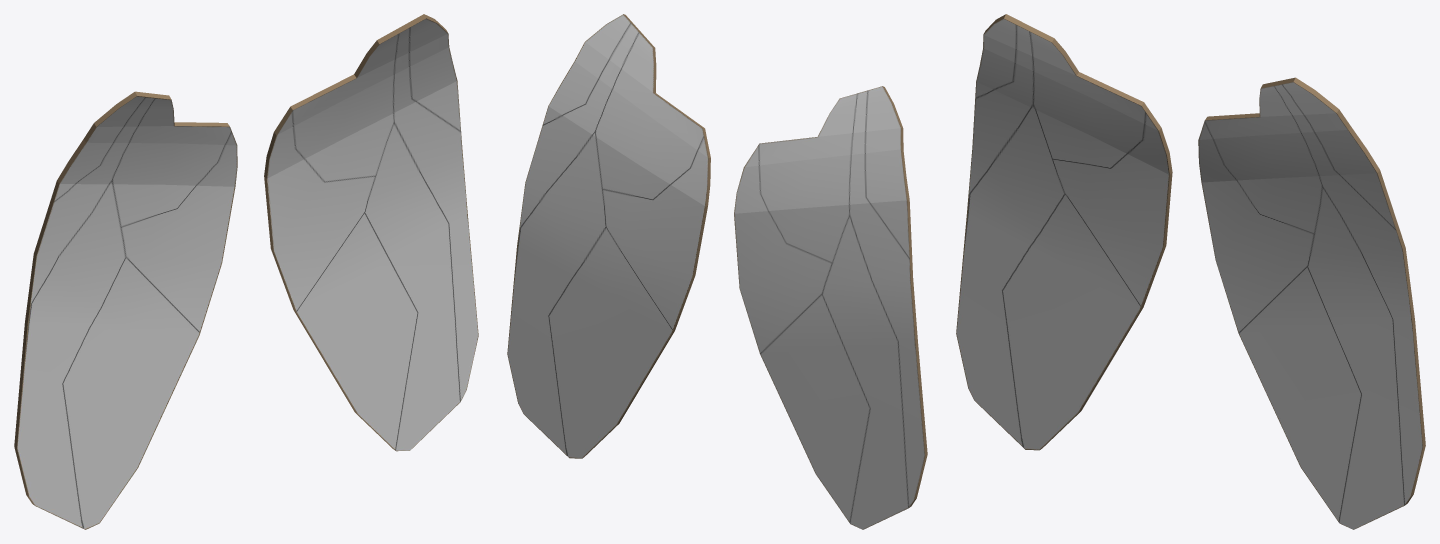
Rendered from Wing Model.fbx.
3 renders of one model, left to right at view 1: azimuth 30°, elevation 25°; view 2: azimuth 150°, elevation 25°; view 3: azimuth 330°, elevation 25°, orthographic. The views are drawn at different scales.
Visible parts, largest first — view 1: Double_Wing; view 2: Double_Wing; view 3: Double_Wing.
Part boxes in pixels (x1,y1,x2,y2): Double_Wing: (14,14,478,529); Double_Wing: (507,14,927,529); Double_Wing: (956,14,1425,529).
Size of the model in its own units: 22.15 by 21.46 by 3.37.
1 material, 1 textured.
